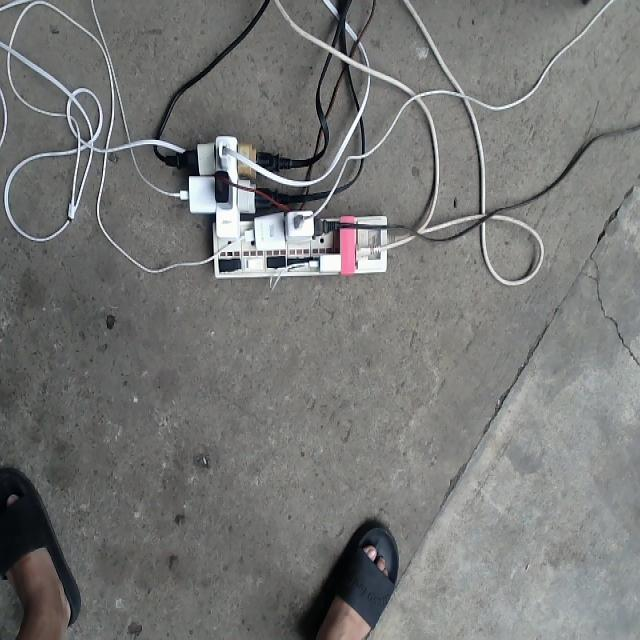-: (167, 135, 387, 277)
